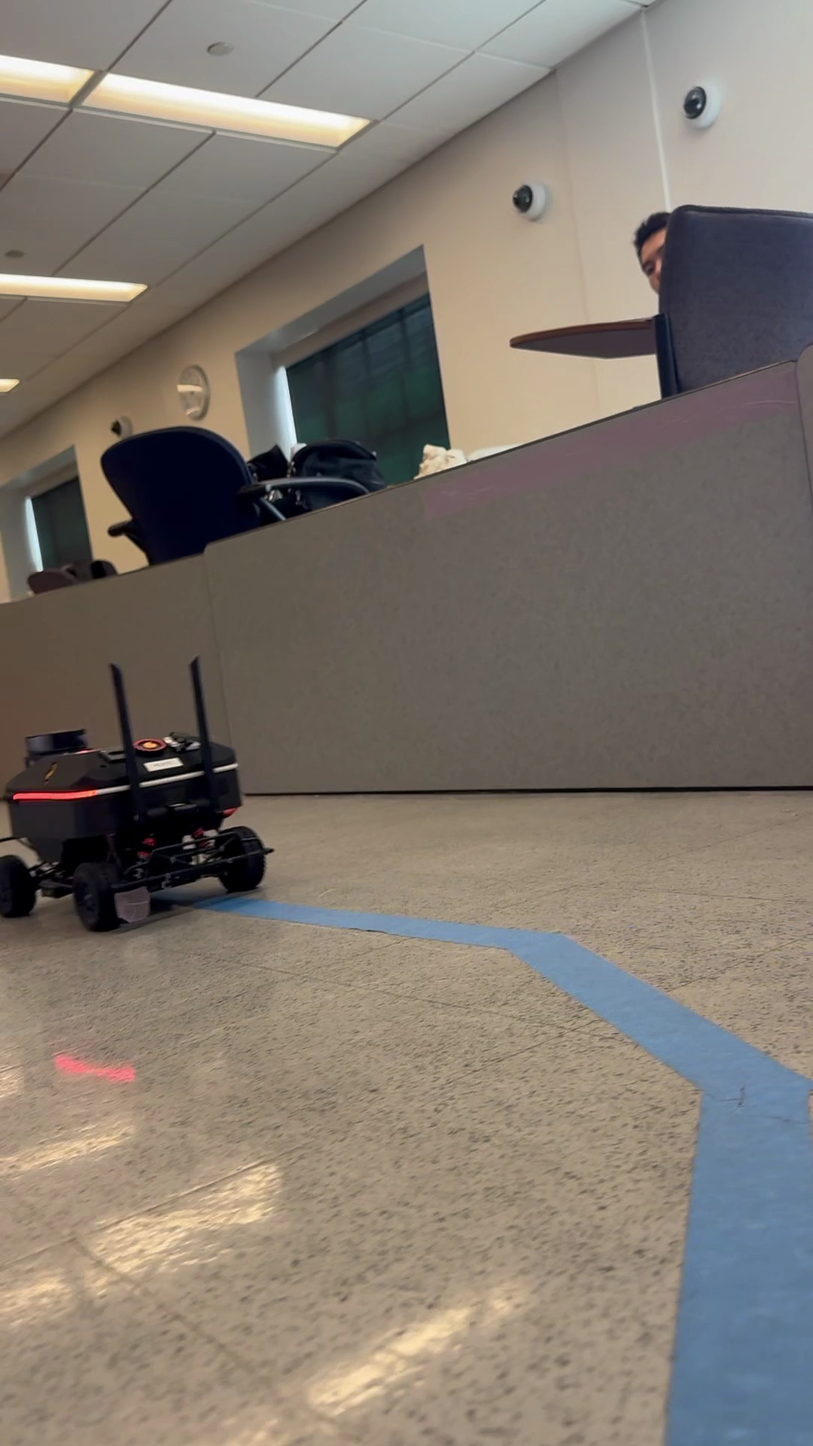racecar: (4, 655, 272, 933)
